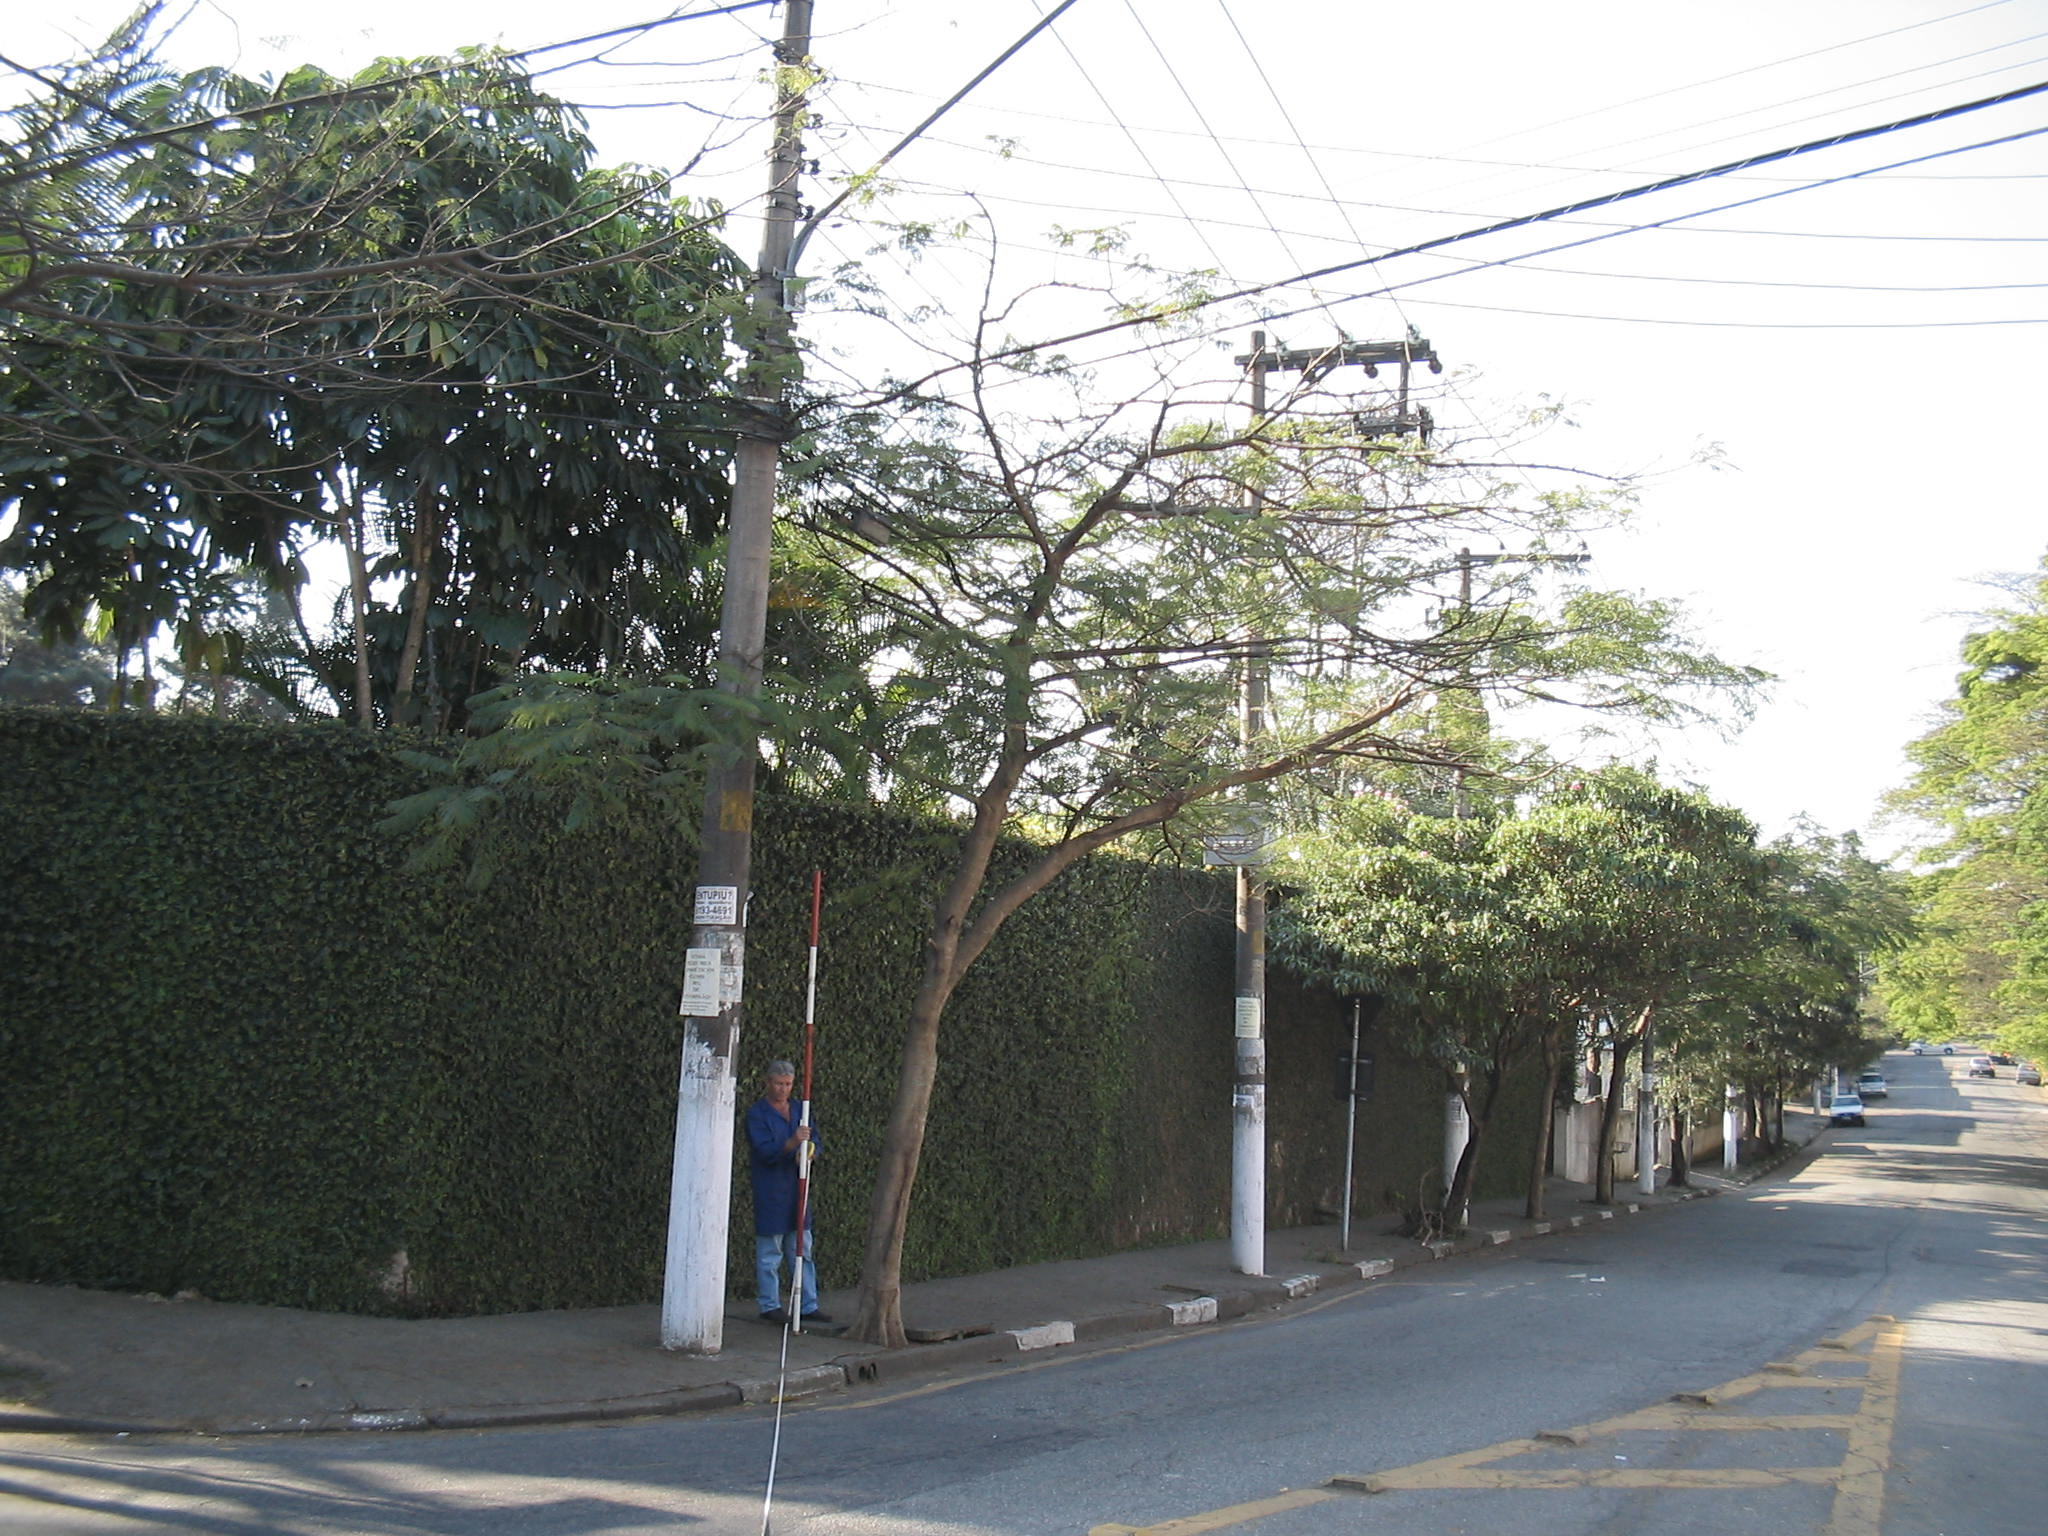crown: (808, 181, 1779, 921), (1280, 816, 1693, 1065)
stem: (821, 954, 1014, 1341), (1422, 1121, 1498, 1233)
stick: (761, 865, 845, 1333)
tree: (801, 177, 1782, 1342), (1271, 812, 1698, 1236)
